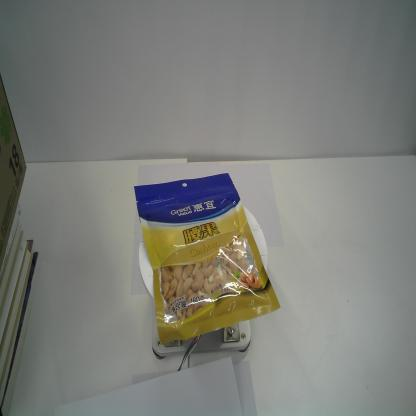Dried Fruit: (134, 172, 282, 346)
